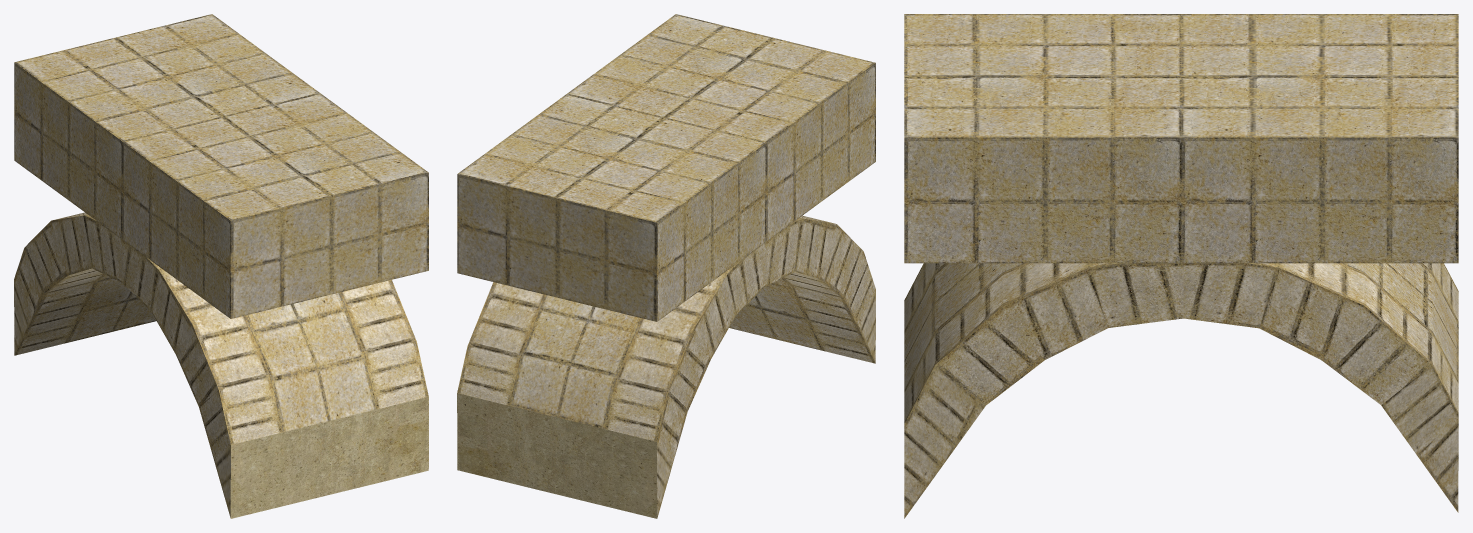
File: bridge_structure_pillar_connector.dae
The picture shows the model from 3 angles, left to right: view 1: azimuth 30°, elevation 25°; view 2: azimuth 150°, elevation 25°; view 3: azimuth 270°, elevation 25°; orthographic projection. The views are drawn at different scales.
Parts seen in each view (by area): view 1: bridge_structure_pillar_connector; view 2: bridge_structure_pillar_connector; view 3: bridge_structure_pillar_connector.
Boxes of the visible parts, box(x1,y1,x2,y2) form: bridge_structure_pillar_connector: box(14, 14, 428, 518); bridge_structure_pillar_connector: box(457, 14, 875, 518); bridge_structure_pillar_connector: box(904, 14, 1458, 518).
Bounding box in the file's own units: 4.08 × 7.74 × 5.87.
3 materials, 3 textured.
